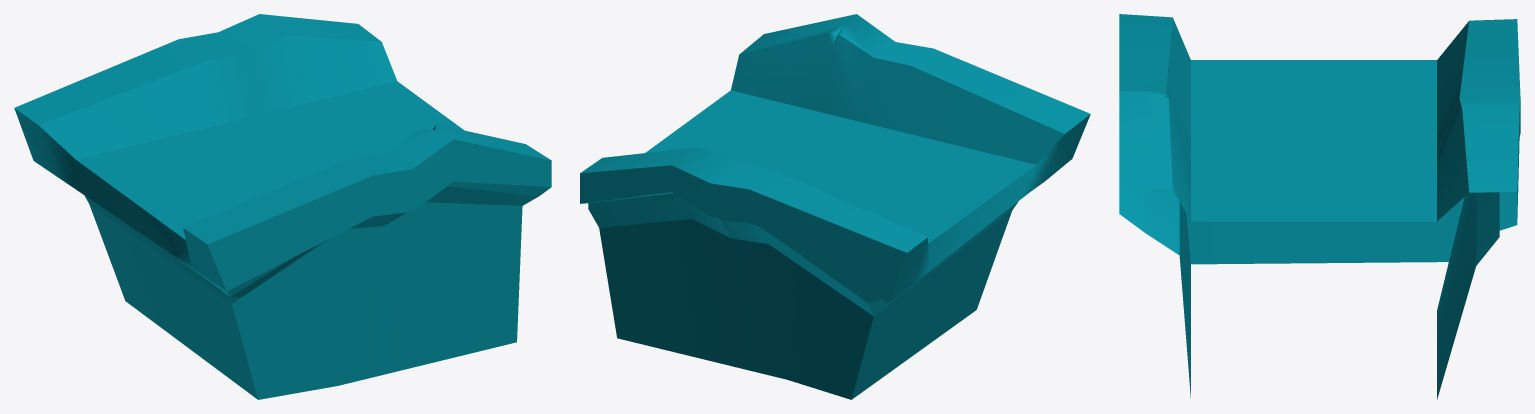
The model's file is Sml_spacer_end.fbx.
3 renders of one model, left to right at view 1: azimuth 30°, elevation 25°; view 2: azimuth 150°, elevation 25°; view 3: azimuth 270°, elevation 25°, orthographic. The views are drawn at different scales.
Visible parts, largest first — view 1: Sml_Spacer_End; view 2: Sml_Spacer_End; view 3: Sml_Spacer_End.
Boxes of the visible parts, box(x1,y1,x2,y2) form: Sml_Spacer_End: box(14, 14, 551, 399); Sml_Spacer_End: box(580, 14, 1090, 399); Sml_Spacer_End: box(1119, 14, 1520, 399).
Bounding box in the file's own units: 1.42 × 0.9917 × 1.39.
